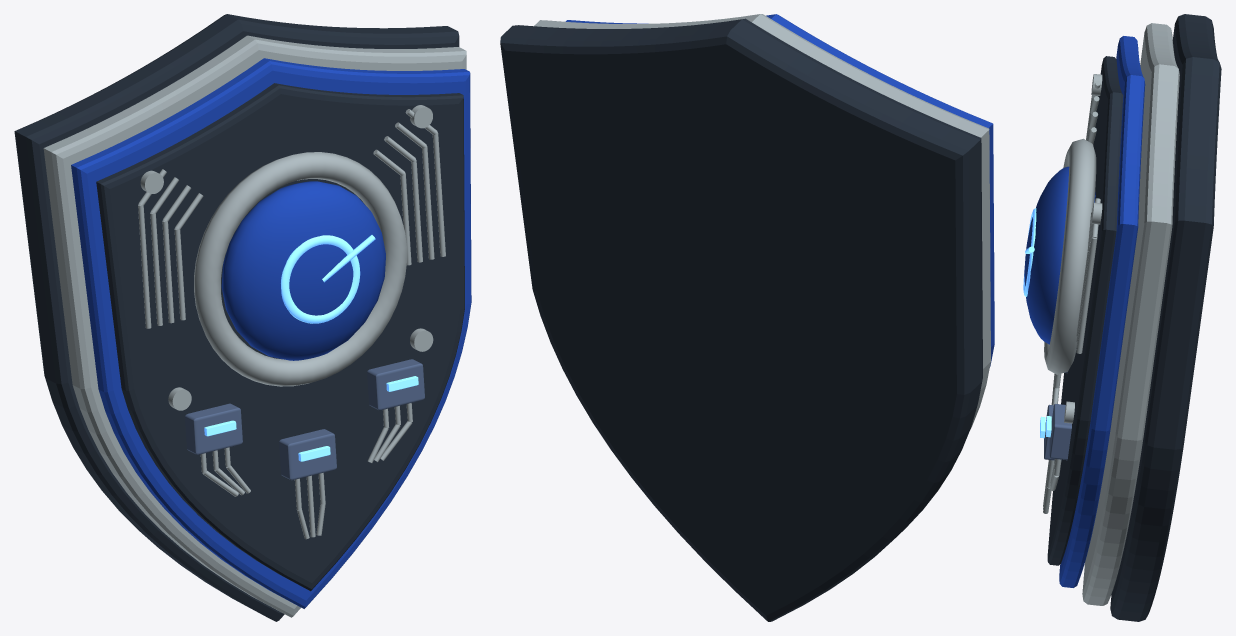
Rendered from sentinel.glb.
3 renders of one model, left to right at view 1: azimuth 30°, elevation 25°; view 2: azimuth 150°, elevation 25°; view 3: azimuth 270°, elevation 25°, orthographic. The views are drawn at different scales.
Visible parts, largest first — view 1: Signal shield; view 2: Signal shield; view 3: Signal shield.
Boxes of the visible parts, box(x1,y1,x2,y2) form: Signal shield: box(14, 14, 471, 621); Signal shield: box(500, 14, 994, 621); Signal shield: box(1023, 14, 1221, 621).
Size of the model in its own units: 2.18 by 2.78 by 0.885.
